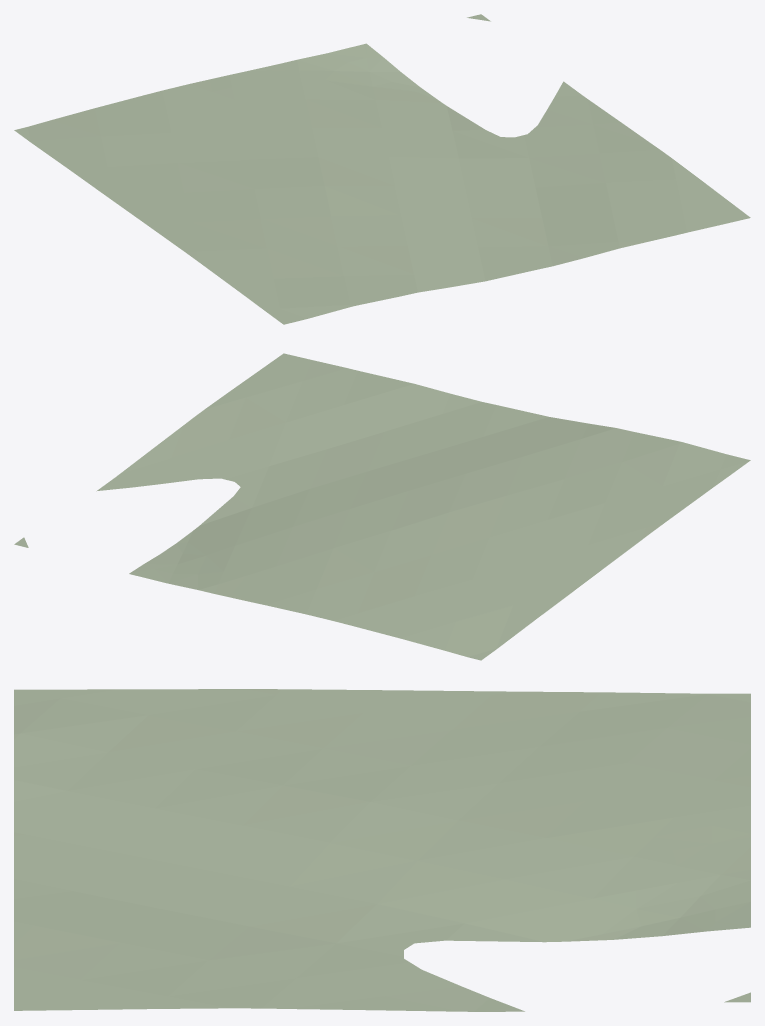
The model's file is SM_MPRR_Terrain_2_2.fbx.
3 views of the same model, one above another, from view 1: azimuth 30°, elevation 25°; view 2: azimuth 150°, elevation 25°; view 3: azimuth 270°, elevation 25° (orthographic). The views are drawn at different scales.
Visible parts, largest first — view 1: SM_MPRR_Terrain_2_2; view 2: SM_MPRR_Terrain_2_2; view 3: SM_MPRR_Terrain_2_2.
Boxes of the visible parts, left/top/right/bottom form: SM_MPRR_Terrain_2_2: left=14, top=14, right=750, bottom=324; SM_MPRR_Terrain_2_2: left=14, top=353, right=750, bottom=660; SM_MPRR_Terrain_2_2: left=14, top=689, right=750, bottom=1011.
Bounding box in the file's own units: 15000 × 15000 × 368.
